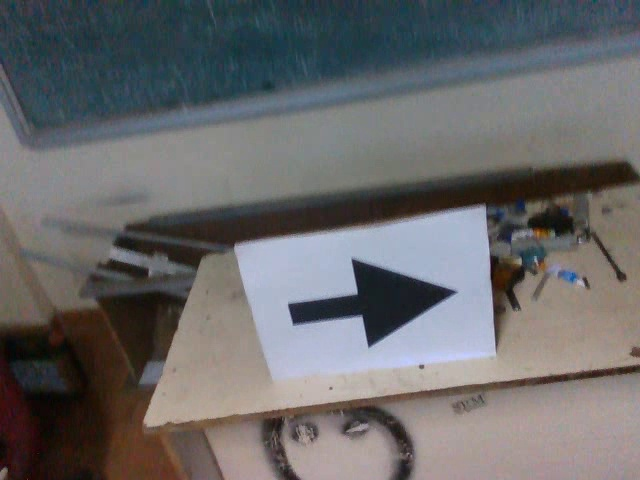Right: (275, 248, 462, 349)
